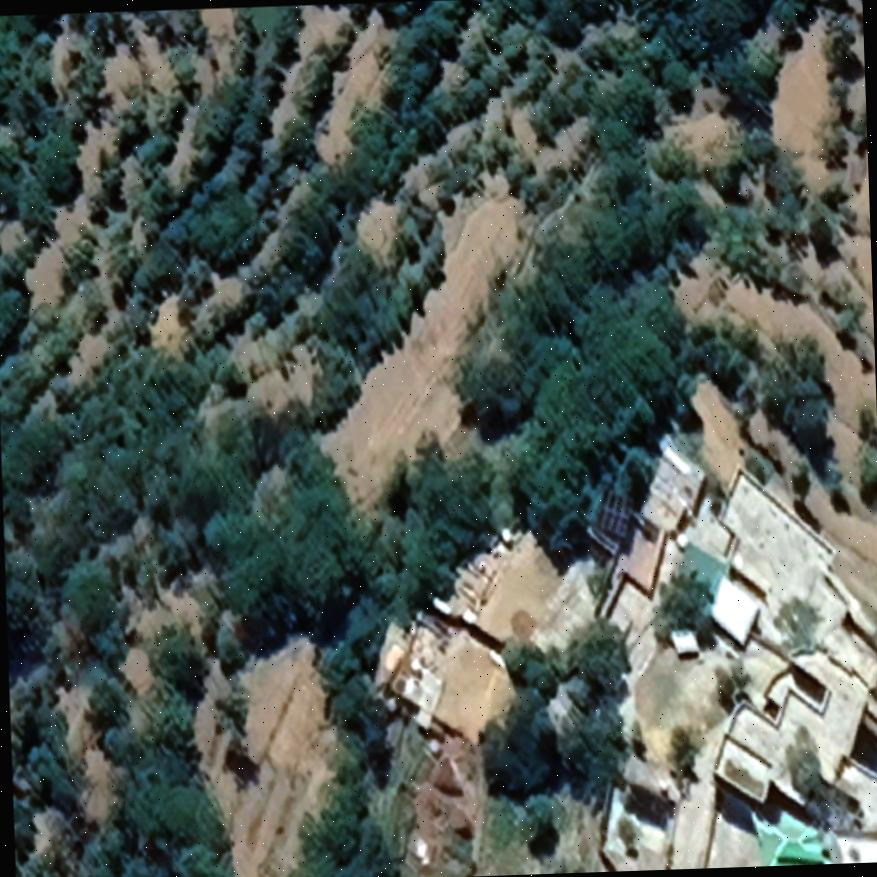Solarpanel: (592, 488, 636, 542)
